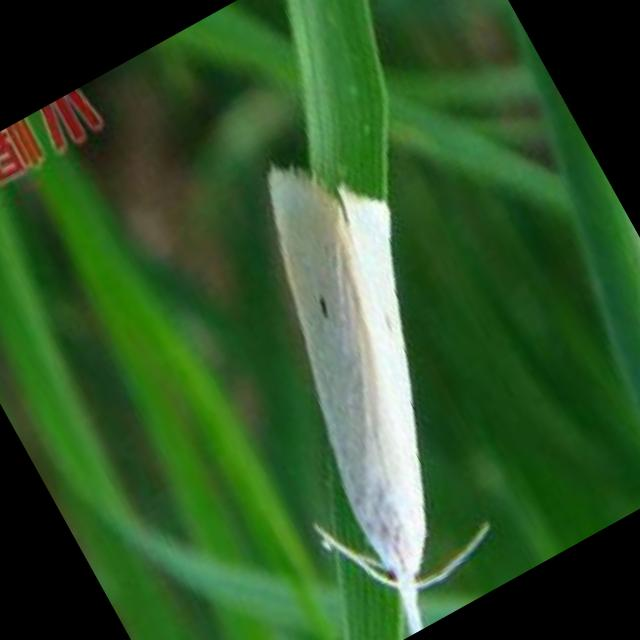stem-borer: (144, 118, 578, 640)
